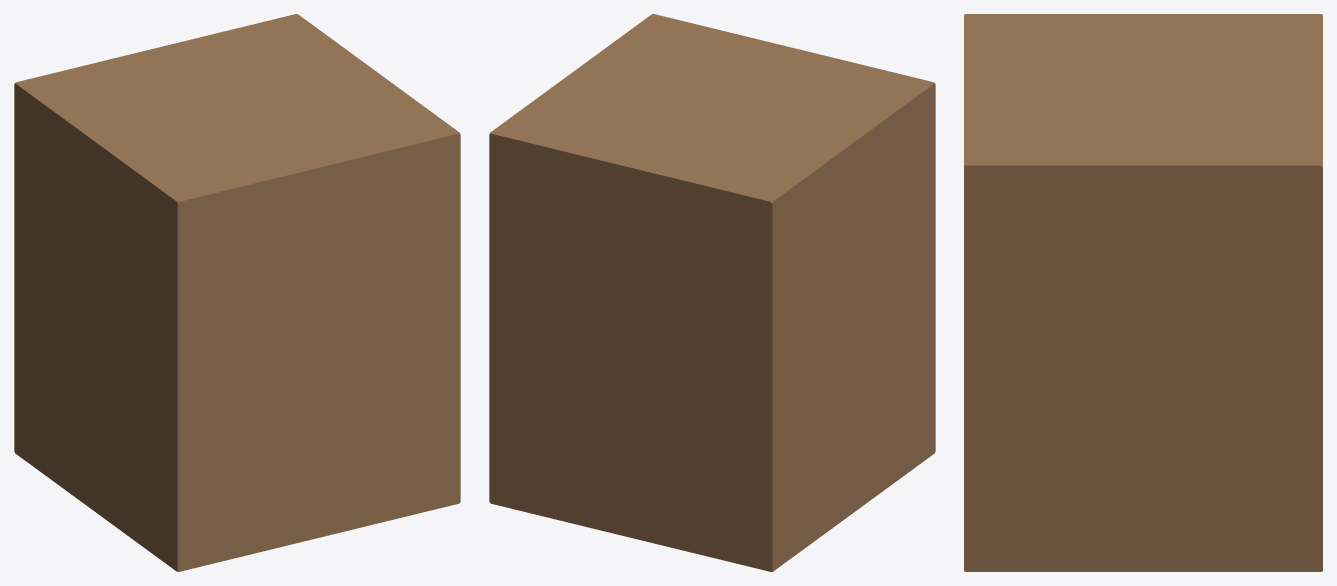
File: SM_StorageSmallBox.fbx
3 renders of one model, left to right at view 1: azimuth 30°, elevation 25°; view 2: azimuth 150°, elevation 25°; view 3: azimuth 270°, elevation 25°, orthographic. The views are drawn at different scales.
Parts seen in each view (by area): view 1: SM_StorageSmallBox; view 2: SM_StorageSmallBox; view 3: SM_StorageSmallBox.
Part boxes in pixels (x1,y1,x2,y2): SM_StorageSmallBox: (14, 14, 460, 571); SM_StorageSmallBox: (489, 14, 935, 571); SM_StorageSmallBox: (964, 14, 1322, 571).
Size of the model in its own units: 0.2 by 0.2 by 0.25.
